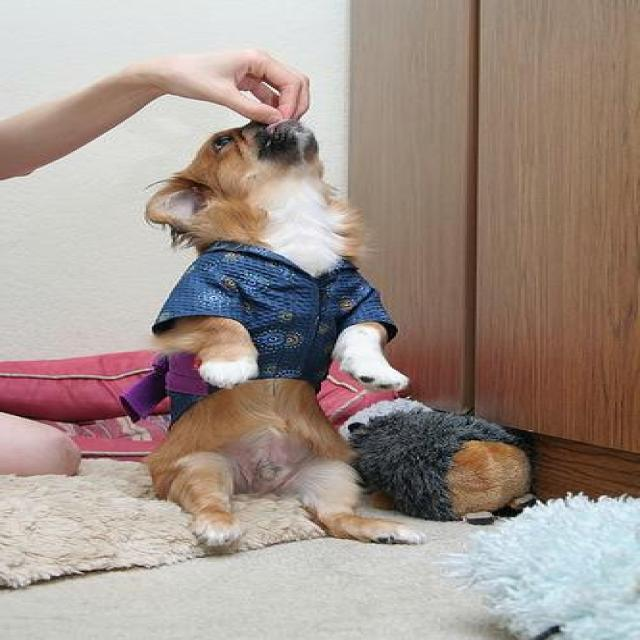pekinese: (150, 118, 419, 553)
